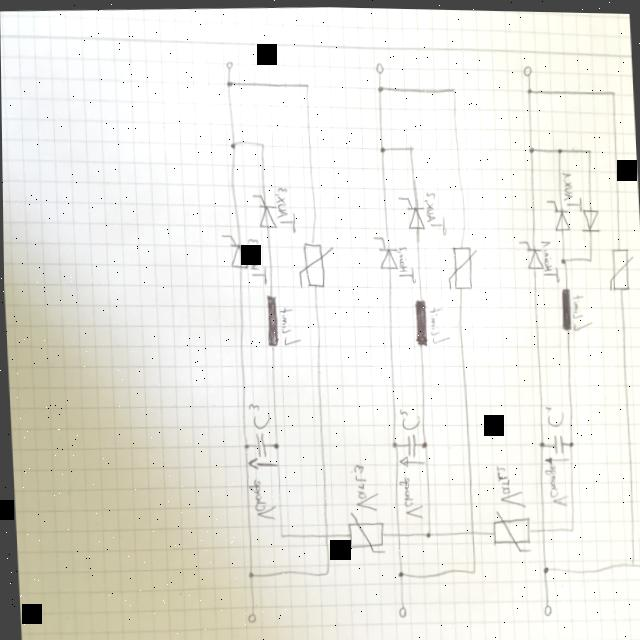capacitor: (253, 431, 265, 458), (550, 430, 563, 454), (404, 431, 415, 458)
crossover: (466, 525, 474, 537), (394, 526, 400, 538), (322, 530, 329, 539), (538, 523, 544, 531)
diode: (579, 204, 600, 231)
inductor: (262, 292, 279, 348), (410, 297, 428, 347), (557, 285, 572, 329)
junction: (540, 562, 548, 574), (375, 82, 383, 92), (378, 143, 386, 153), (524, 84, 532, 94), (559, 254, 566, 264), (555, 145, 563, 153), (228, 140, 235, 149), (449, 83, 455, 93), (528, 143, 534, 153), (396, 568, 402, 578), (419, 439, 426, 447), (389, 439, 396, 447), (225, 79, 232, 87), (610, 86, 616, 95), (321, 567, 327, 576), (271, 441, 277, 450), (258, 139, 264, 148), (566, 437, 572, 446), (241, 442, 248, 449), (408, 143, 414, 151), (586, 145, 592, 153), (627, 558, 633, 566), (537, 439, 543, 447), (586, 254, 592, 261), (423, 529, 429, 536), (246, 571, 252, 578), (567, 524, 573, 530), (303, 81, 309, 87), (277, 532, 282, 538), (470, 567, 474, 573)
terminal: (244, 611, 254, 623), (522, 63, 531, 75), (375, 62, 383, 74), (396, 604, 404, 616), (542, 602, 550, 614), (225, 60, 233, 69)
text: (493, 462, 525, 508), (350, 462, 378, 511), (246, 477, 275, 521), (395, 473, 422, 519), (422, 188, 447, 236), (542, 461, 568, 506), (244, 236, 267, 286), (273, 185, 296, 234), (277, 303, 300, 346), (426, 303, 450, 344), (538, 236, 559, 282), (570, 289, 591, 331), (561, 168, 581, 211), (396, 242, 415, 284), (246, 401, 269, 430), (396, 405, 419, 430), (542, 402, 563, 427)
thyristor: (221, 232, 247, 269), (399, 193, 424, 230), (253, 192, 276, 230), (518, 236, 544, 268), (376, 233, 397, 270), (548, 197, 570, 230)
